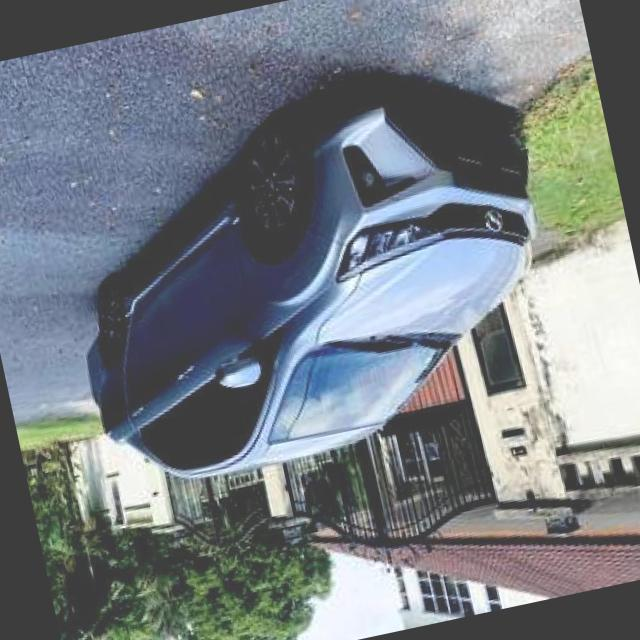PeroduaBezza: (42, 64, 580, 501)
